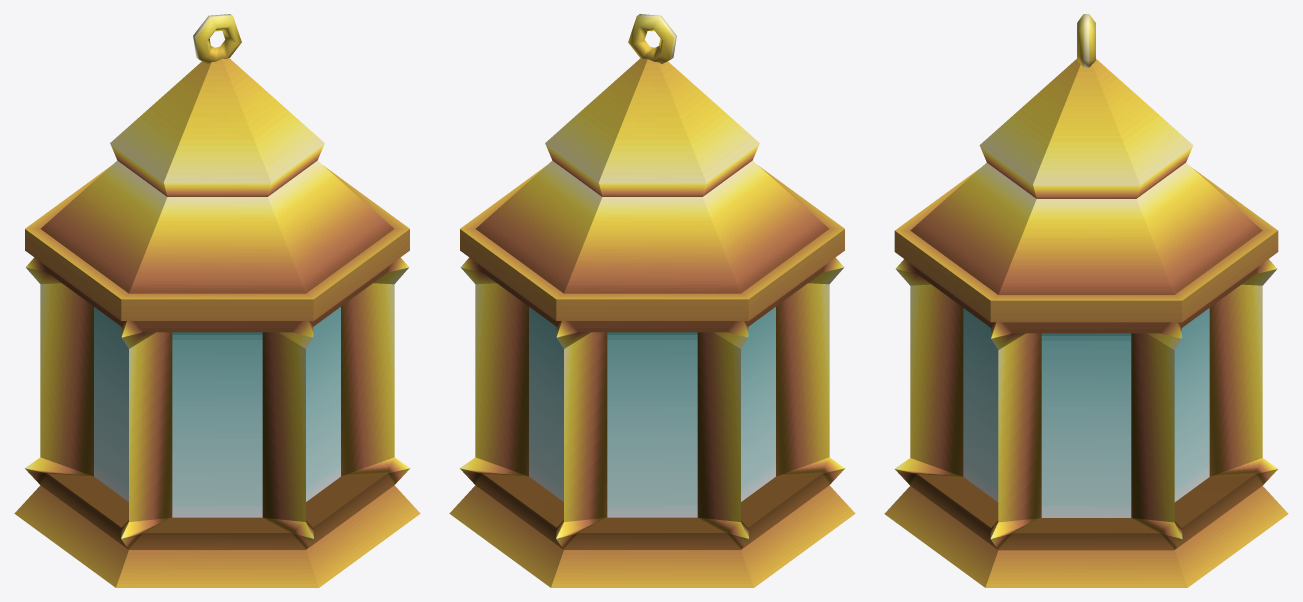
File: LanternMesh.fbx
3 views of the same model, side by side, from view 1: azimuth 30°, elevation 25°; view 2: azimuth 150°, elevation 25°; view 3: azimuth 270°, elevation 25° (orthographic).
Parts seen in each view (by area): view 1: LanternHolder, LanternGlass; view 2: LanternHolder, LanternGlass; view 3: LanternHolder, LanternGlass.
Part boxes in pixels (x1,y1,x2,y2): LanternHolder: (14,14,420,587); LanternGlass: (94,307,340,517); LanternHolder: (449,14,855,587); LanternGlass: (529,307,775,517); LanternHolder: (884,14,1288,587); LanternGlass: (963,308,1209,517).
Bounding box in the file's own units: 3.97 × 6.22 × 4.59.
